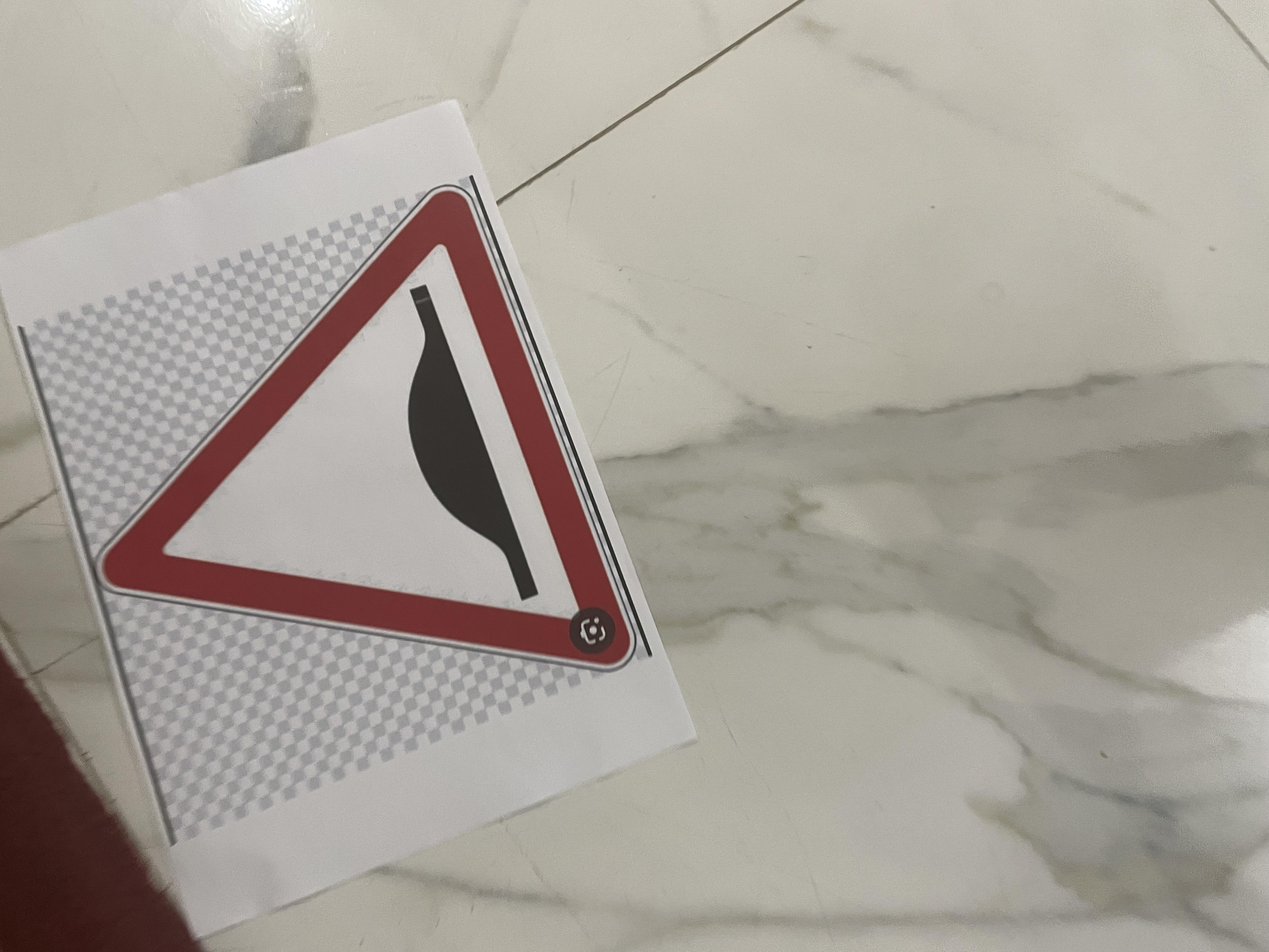Hump: (378, 64, 1054, 479)
